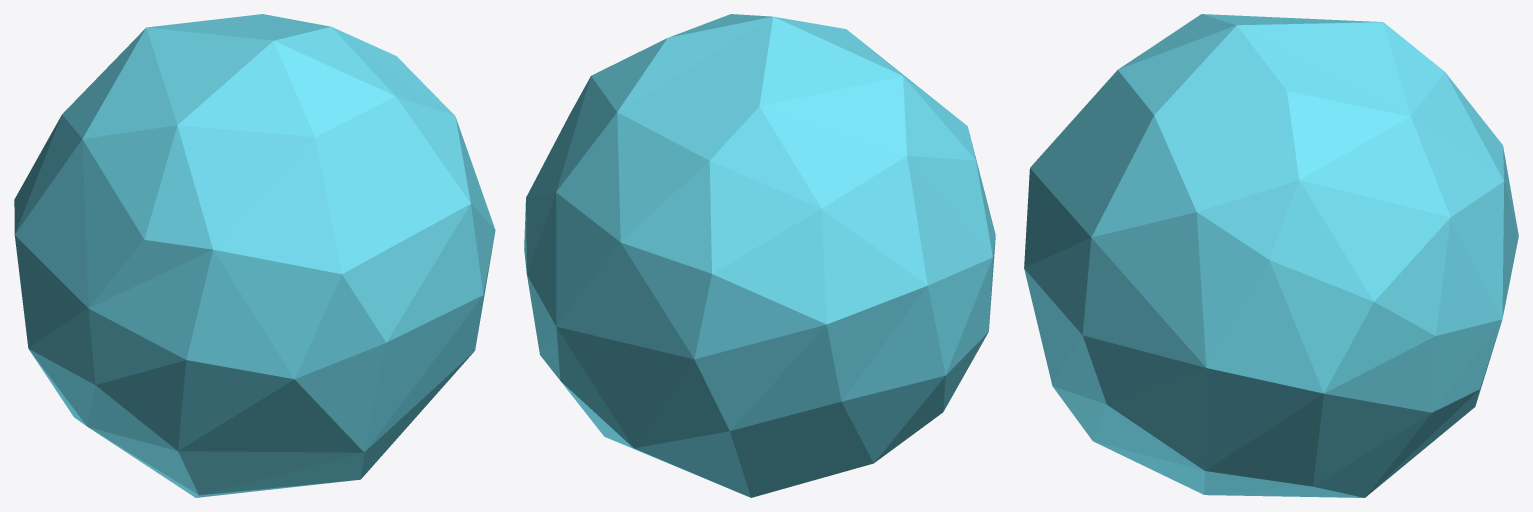
File: Spore_02.fbx
3 views of the same model, side by side, from view 1: azimuth 30°, elevation 25°; view 2: azimuth 150°, elevation 25°; view 3: azimuth 270°, elevation 25° (orthographic). The views are drawn at different scales.
Visible parts, largest first — view 1: spores02; view 2: spores02; view 3: spores02.
Part boxes in pixels (<box>): spores02: <box>14,14,495,497</box>; spores02: <box>524,14,995,497</box>; spores02: <box>1024,14,1518,497</box>.
Bounding box in the file's own units: 4.53 × 4.55 × 4.48.
